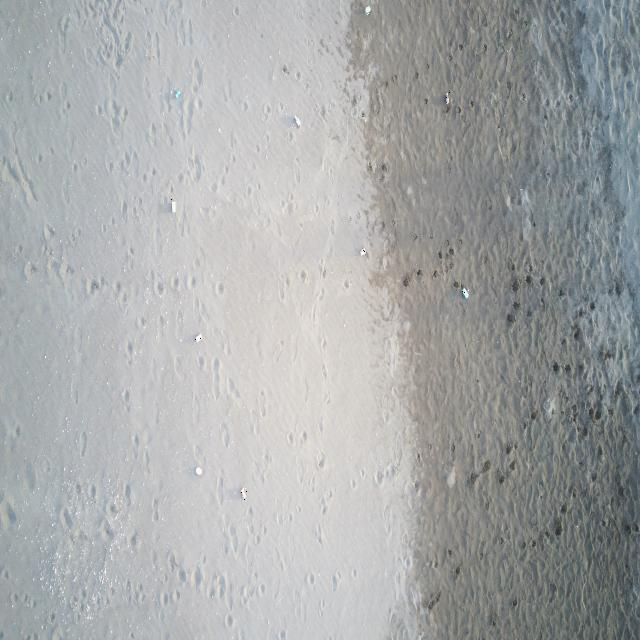Garbage: (169, 198, 176, 212), (292, 115, 300, 127), (460, 287, 467, 299), (240, 487, 246, 500), (364, 4, 371, 15), (173, 88, 180, 98), (193, 334, 201, 342), (195, 466, 201, 475), (444, 91, 448, 103), (360, 247, 366, 255)
